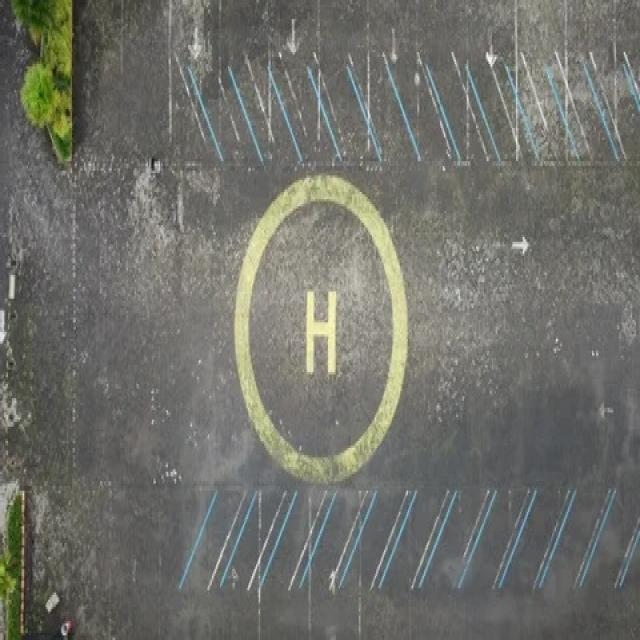helipad: (225, 163, 412, 486)
